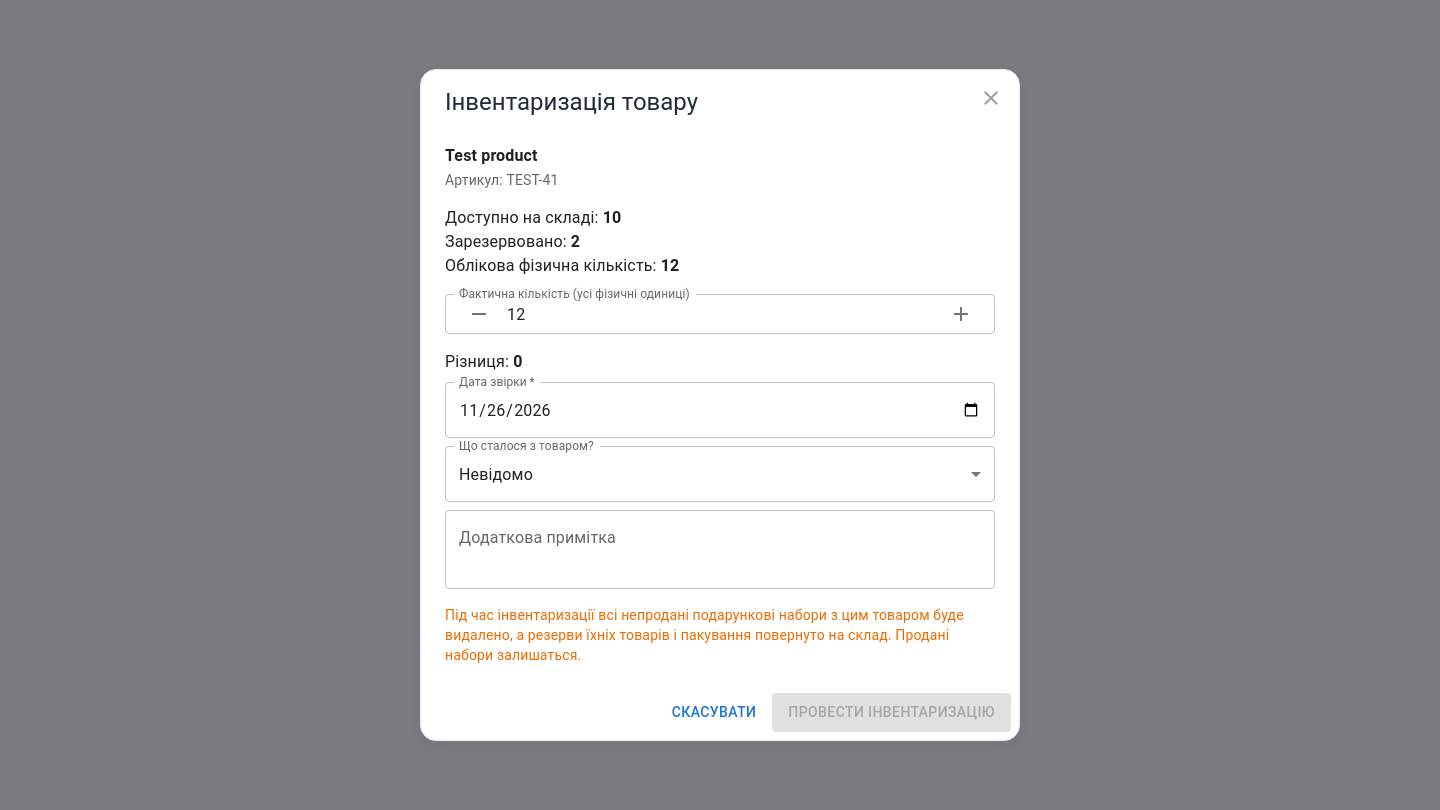
ProductInventoryModal › increments and decrements the physical quantity
Click the 3rd button: (961, 314) [941, 294, 981, 334]
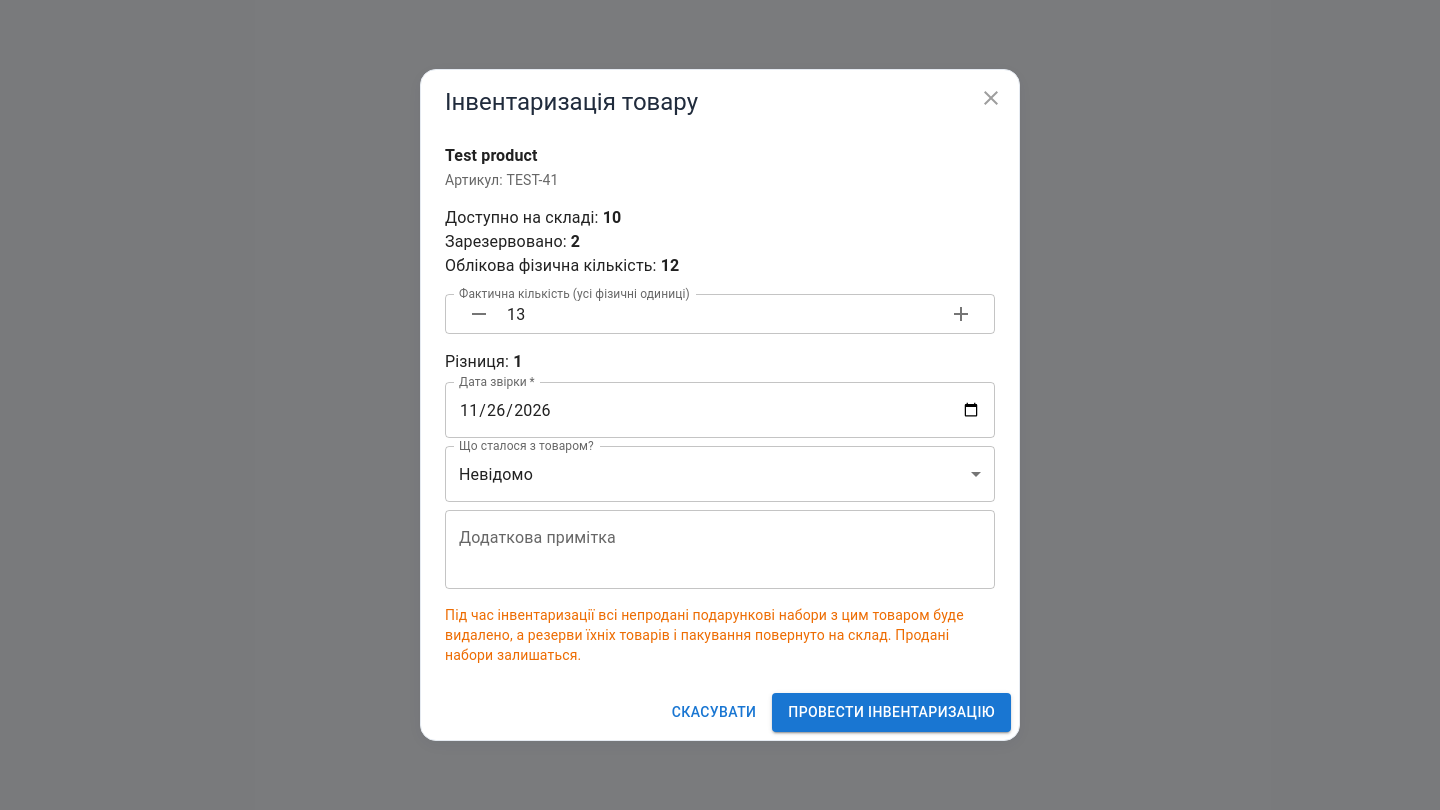
Now the field labelled "Фактична кількість (усі фізичні одиниці)" holds "13", box [507, 294, 933, 334]
Click the 2nd button: (479, 314) [459, 294, 499, 334]
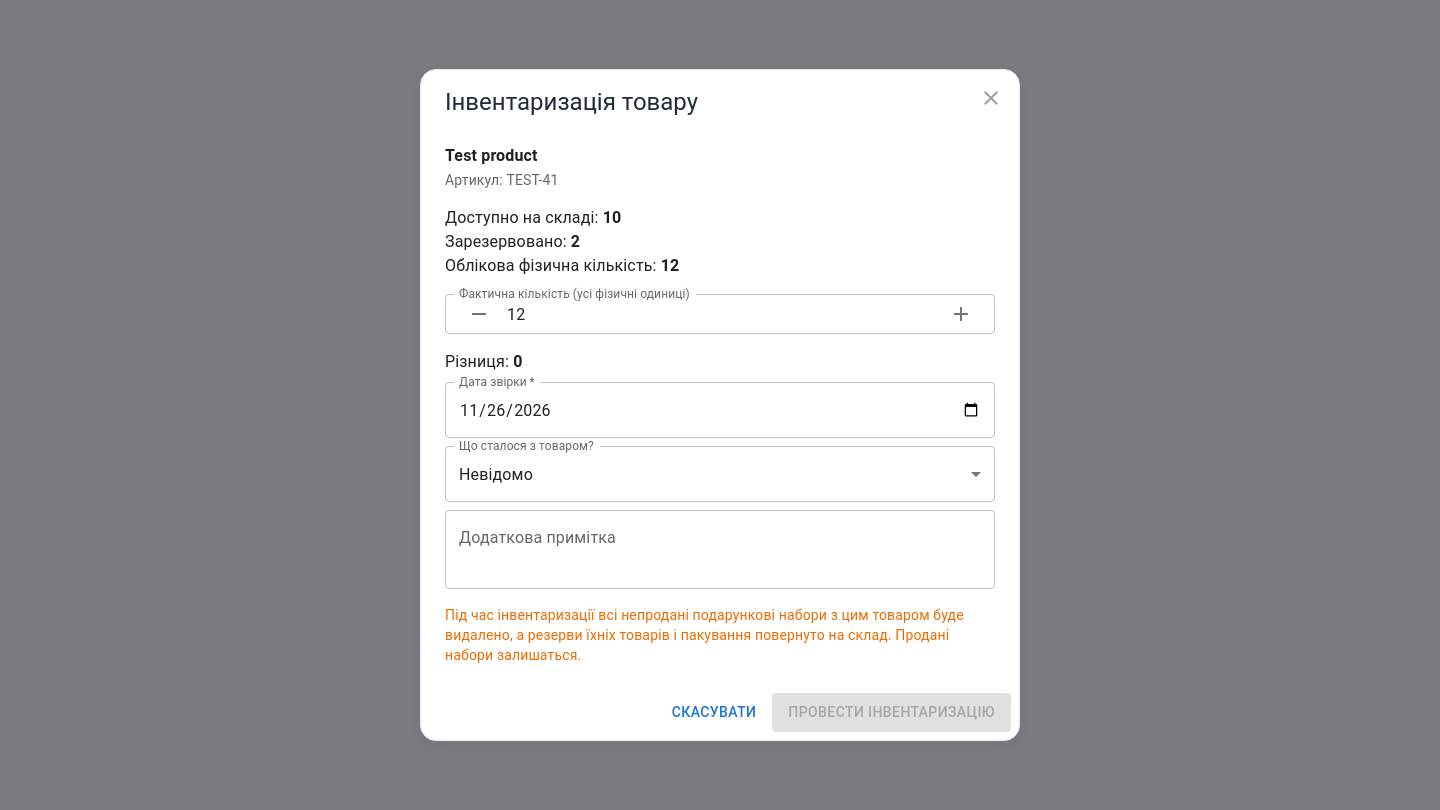
Now the field labelled "Фактична кількість (усі фізичні одиниці)" holds "12", box [507, 294, 933, 334]
